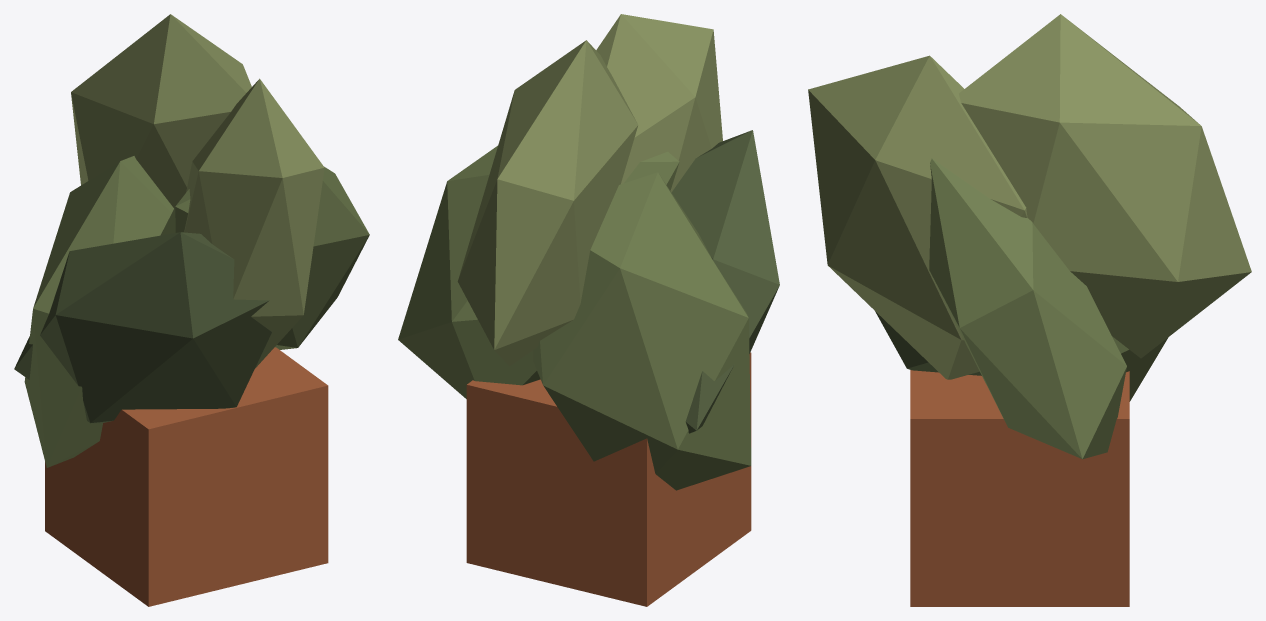
File: plant-s1.4.glb
3 views of the same model, side by side, from view 1: azimuth 30°, elevation 25°; view 2: azimuth 150°, elevation 25°; view 3: azimuth 270°, elevation 25° (orthographic). The views are drawn at different scales.
Parts seen in each view (by area): view 1: plant-s1.4; view 2: plant-s1.4; view 3: plant-s1.4.
Boxes of the visible parts, x1,y1,x2,y2 form: plant-s1.4: (14,14,369,606); plant-s1.4: (398,14,779,606); plant-s1.4: (808,14,1251,606).
Size of the model in its own units: 0.9292 by 1.39 by 1.02.
